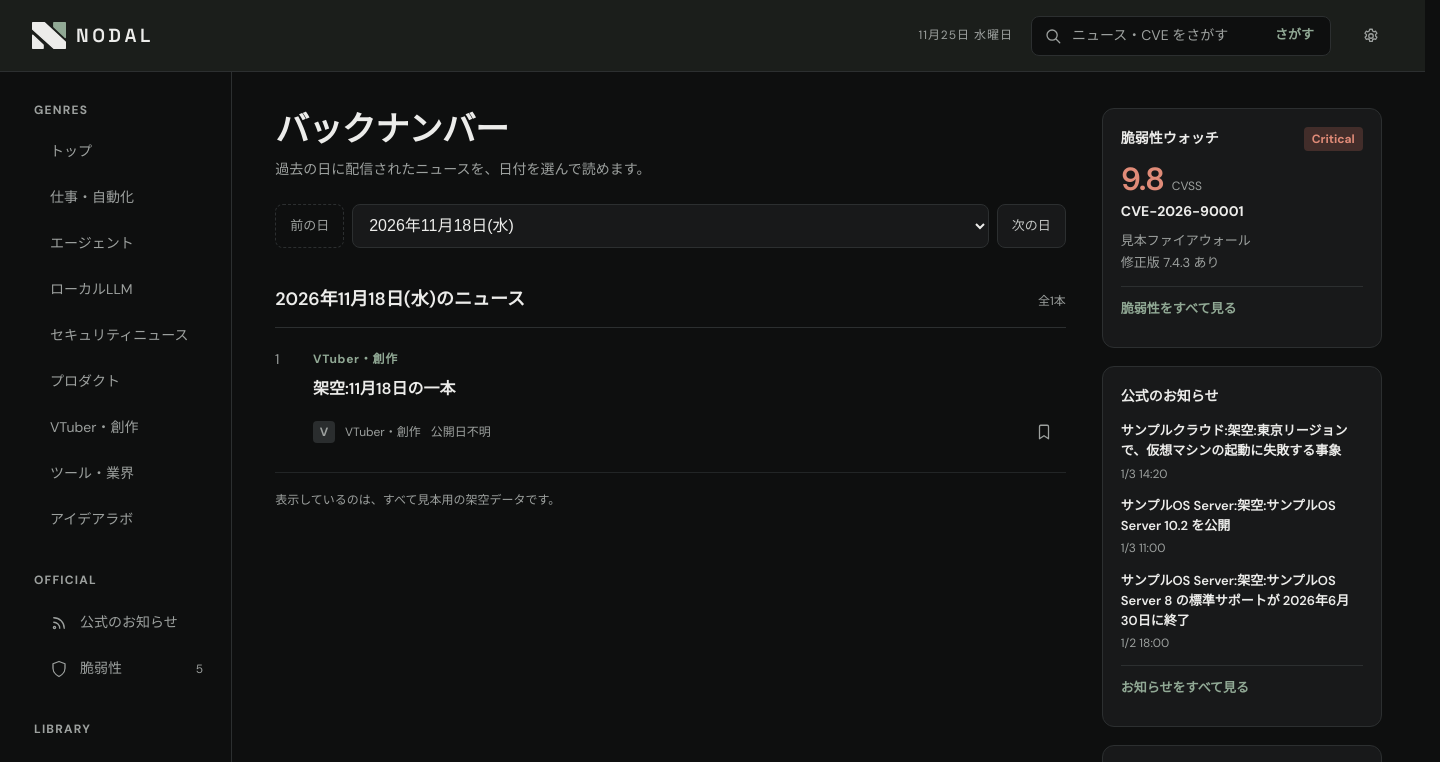
Test case: バックナンバー › TST-ARC-03 前の日・次の日は記事のある日だけを辿り、端では押せない文字。select で選ぶと URL が変わり履歴に積む
Later steps or results of the test are not shown.
Check: the link "次の日" is shown, box [997, 204, 1066, 248]
Check: the heading "2026年11月18日(水)のニュース" is shown, box [275, 284, 525, 315]
Select "2026年11月24日(火)" in the dropdown named "配信日" at {"x": 670, "y": 226}, box [352, 204, 989, 248]
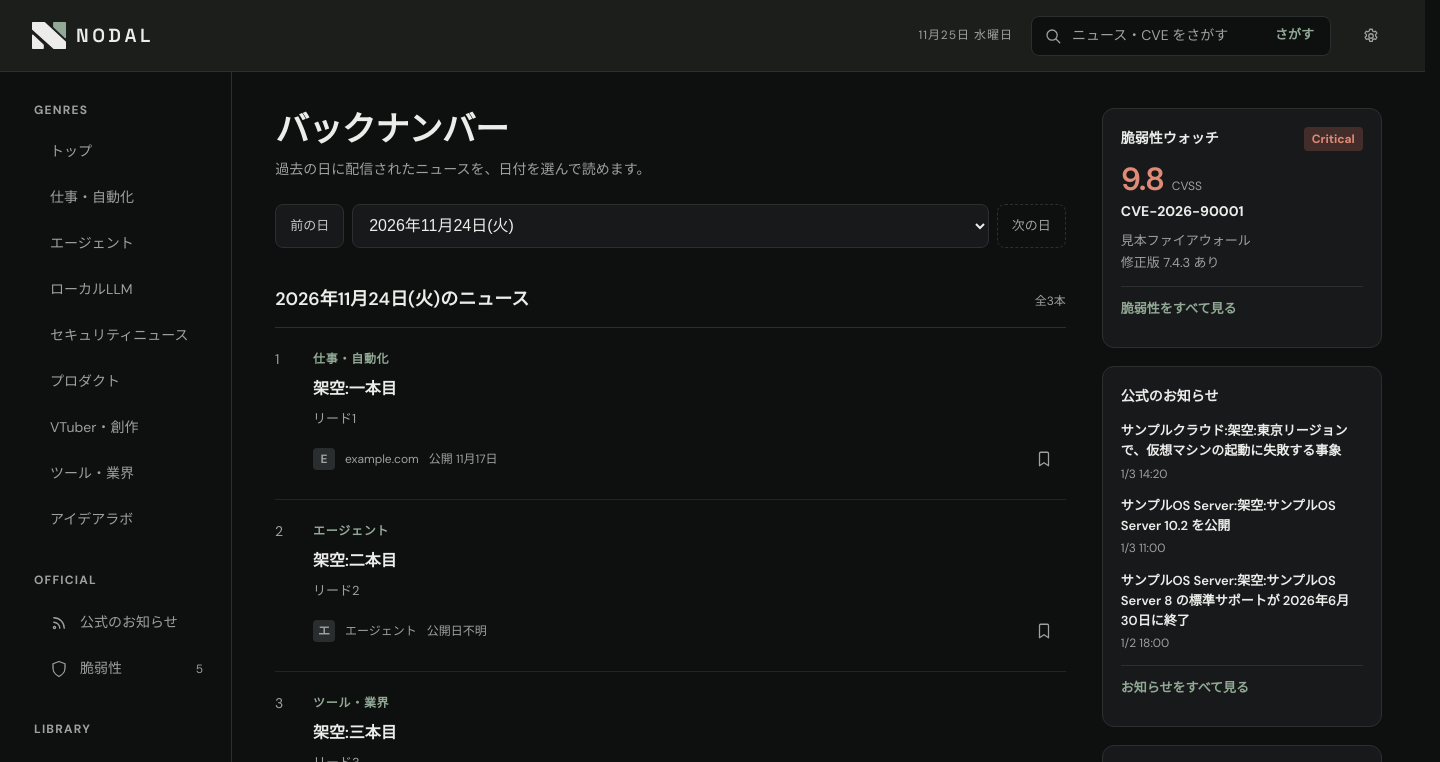
Check: the heading "2026年11月24日(火)のニュース" is shown, box [275, 284, 529, 315]
